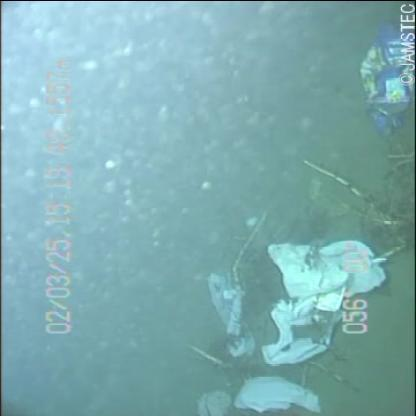Rác: (230, 235, 392, 374), (204, 370, 328, 415)
